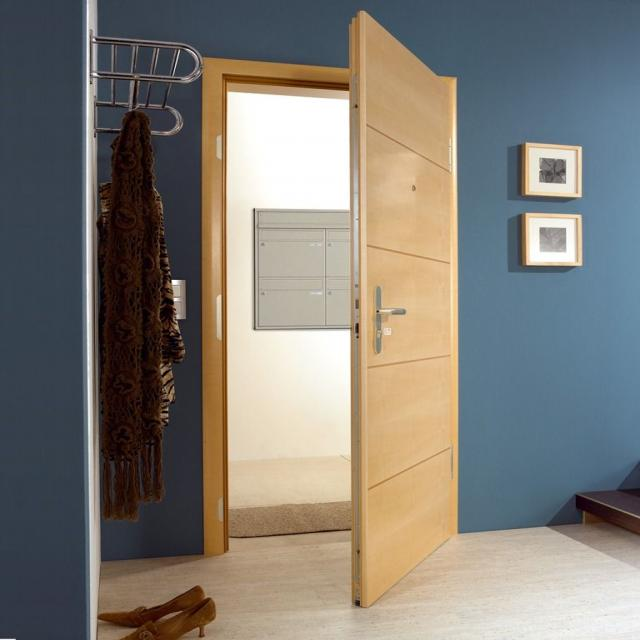open: (216, 59, 458, 576)
